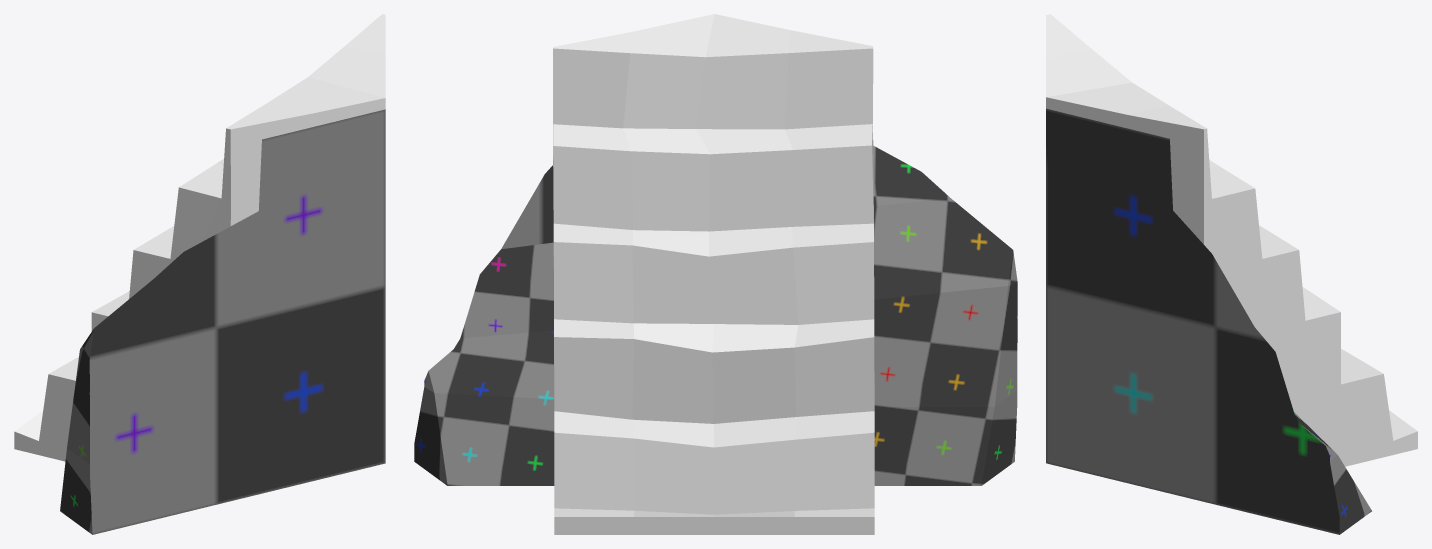
The model's file is module-corner_land_cliff_big_stairs_001.glb.
The picture shows the model from 3 angles, left to right: view 1: azimuth 30°, elevation 25°; view 2: azimuth 150°, elevation 25°; view 3: azimuth 270°, elevation 25°; orthographic projection. The views are drawn at different scales.
Parts seen in each view (by area): view 1: module-corner_land_cliff_big_stairs_001; view 2: module-corner_land_cliff_big_stairs_001; view 3: module-corner_land_cliff_big_stairs_001.
Part boxes in pixels (x1=…): module-corner_land_cliff_big_stairs_001: x1=14, y1=14, x2=385, y2=534; module-corner_land_cliff_big_stairs_001: x1=414, y1=14, x2=1017, y2=534; module-corner_land_cliff_big_stairs_001: x1=1046, y1=14, x2=1417, y2=534.
Bounding box in the file's own units: 0.654 × 0.525 × 0.475.
2 materials, 1 textured.
